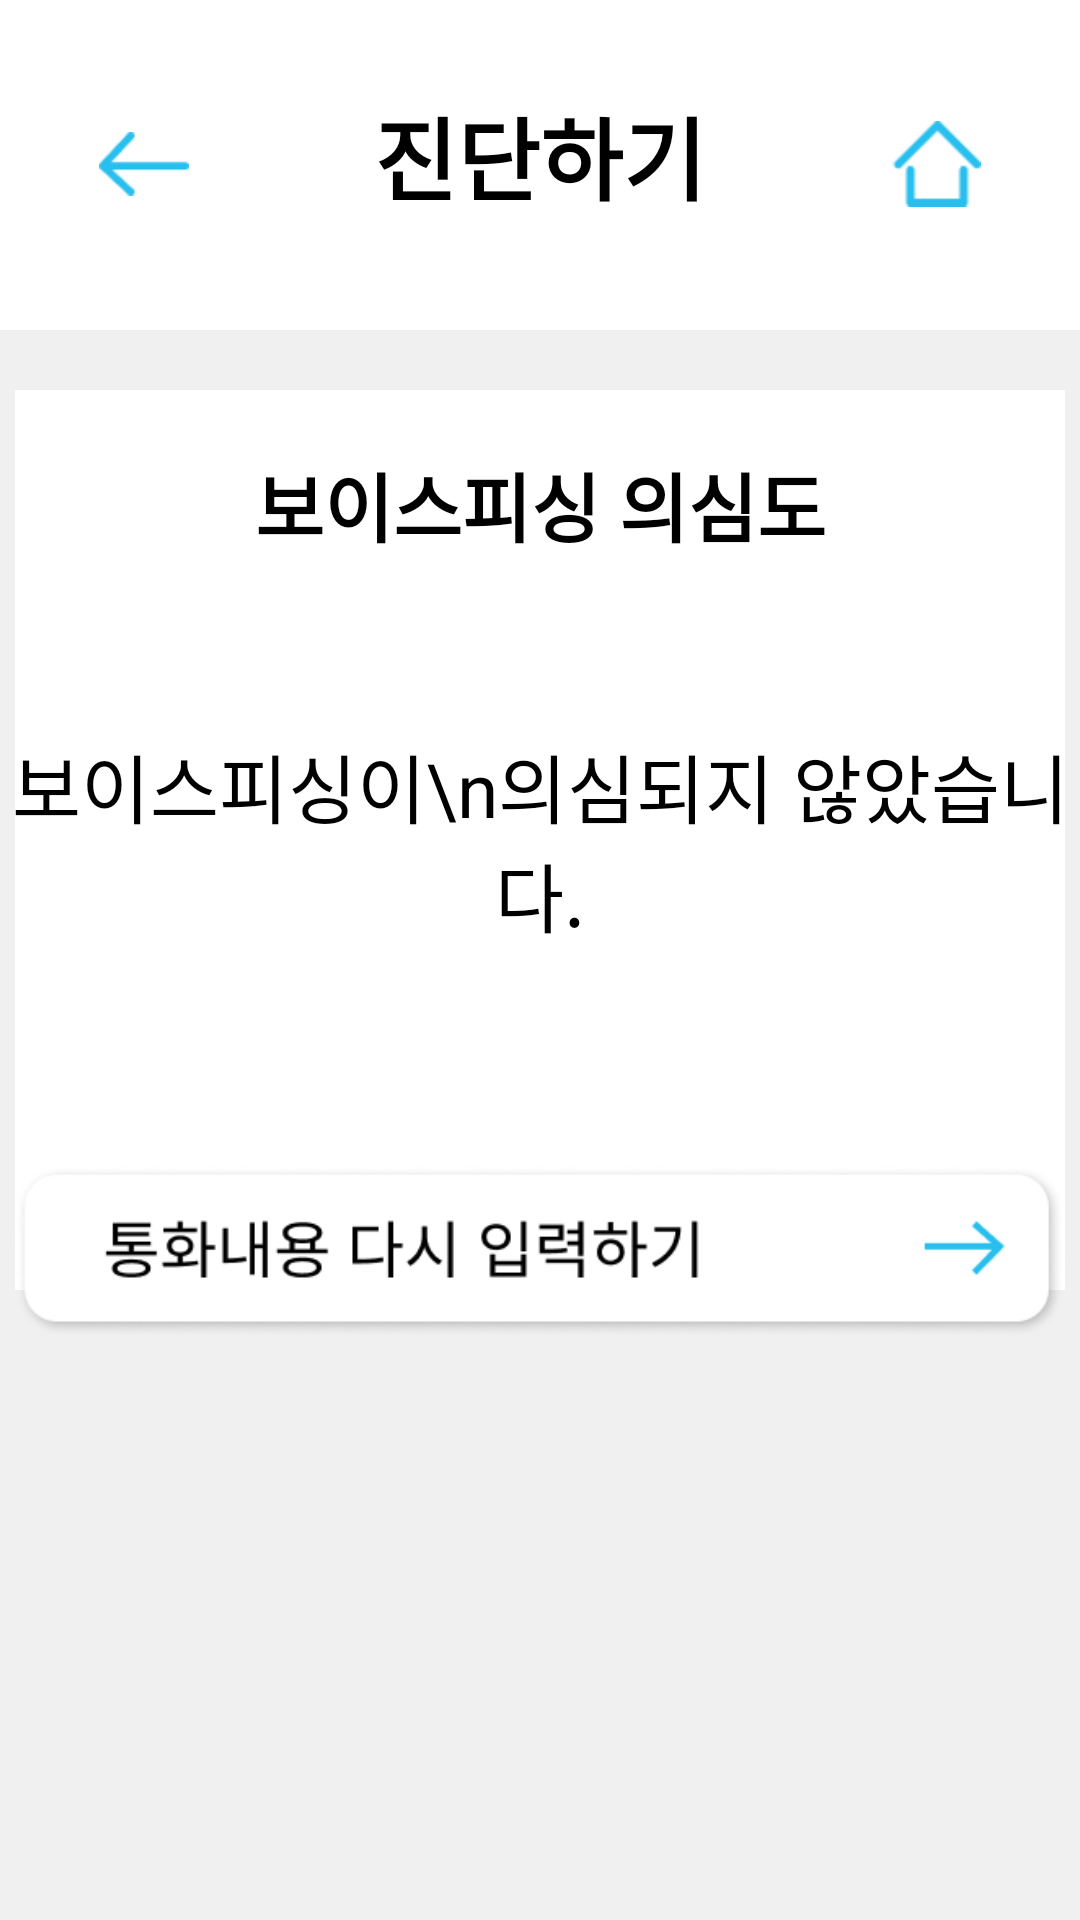

Named icons in this screenshot (1080px×1920px) and their bounding boxes, (x1, y1, x2, y2):
backbtn: (99, 132, 189, 196)
homebtn: (893, 121, 981, 207)
